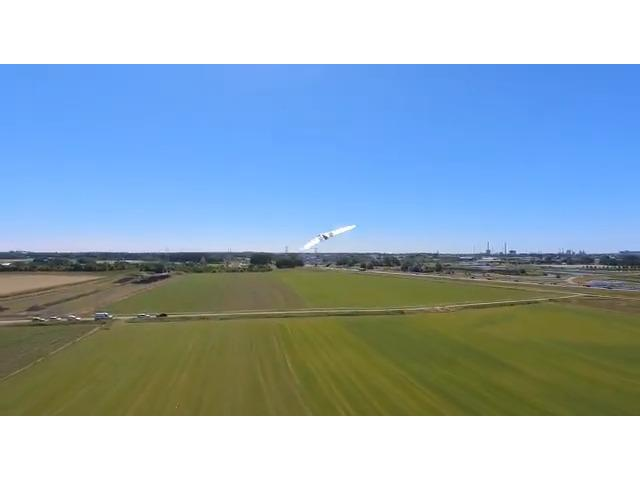Anti-Drone: (290, 211, 366, 265)
